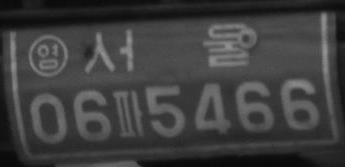0: (29, 90, 68, 144)
4: (193, 82, 231, 136)
5: (145, 84, 186, 138)
6: (279, 76, 320, 132), (72, 87, 112, 142), (234, 79, 274, 134)
서울_D: (82, 21, 252, 75)
영: (27, 33, 68, 79)
파: (113, 89, 144, 138)
